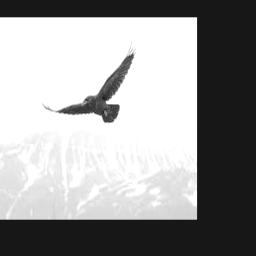Crow: (40, 38, 138, 123)
